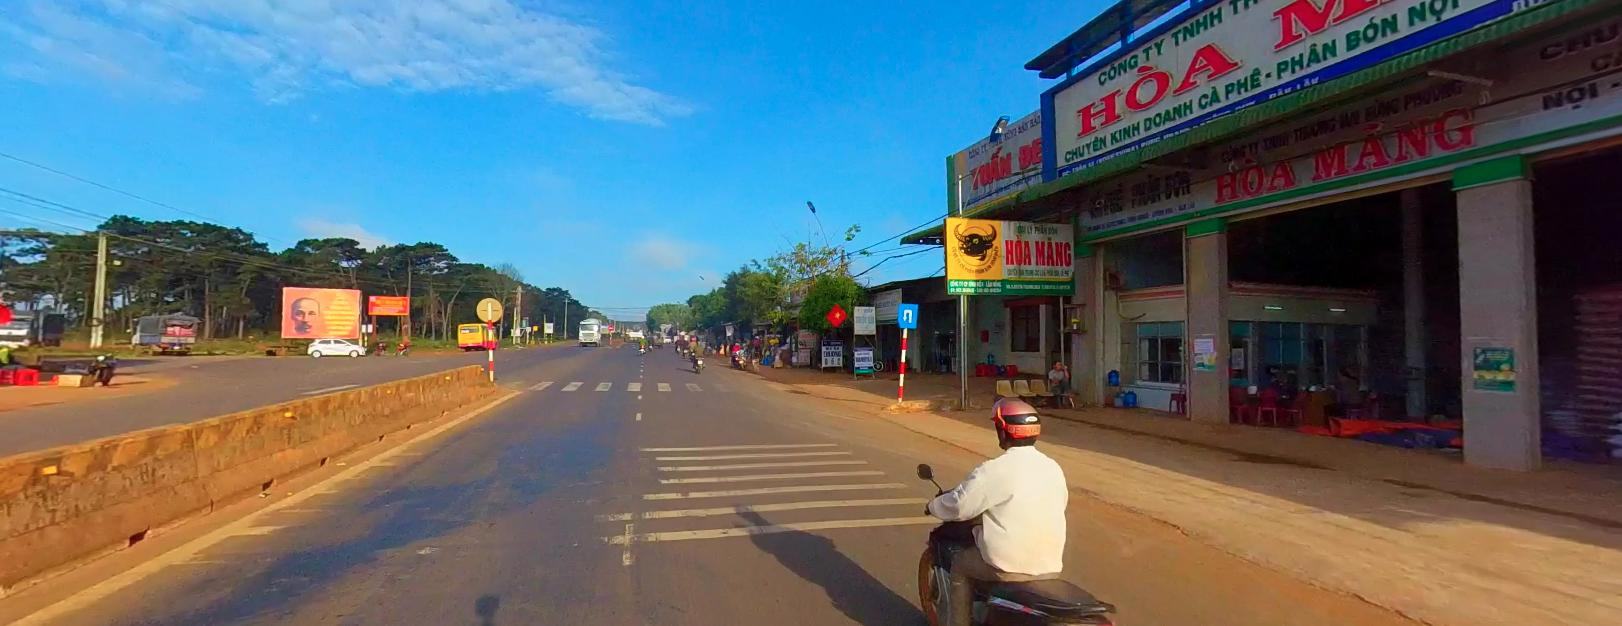Cam nguoc chieu: (607, 323, 613, 329)
